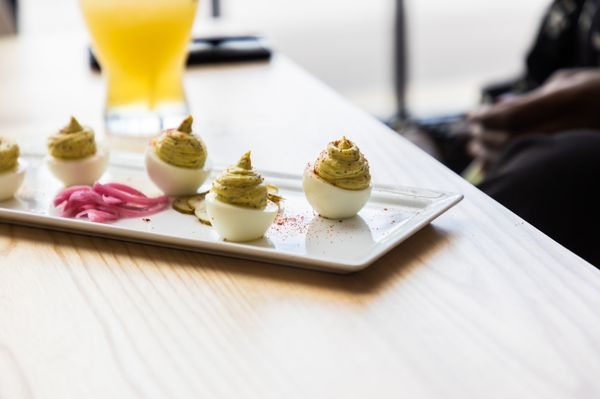pizza: (76, 1, 199, 139)
